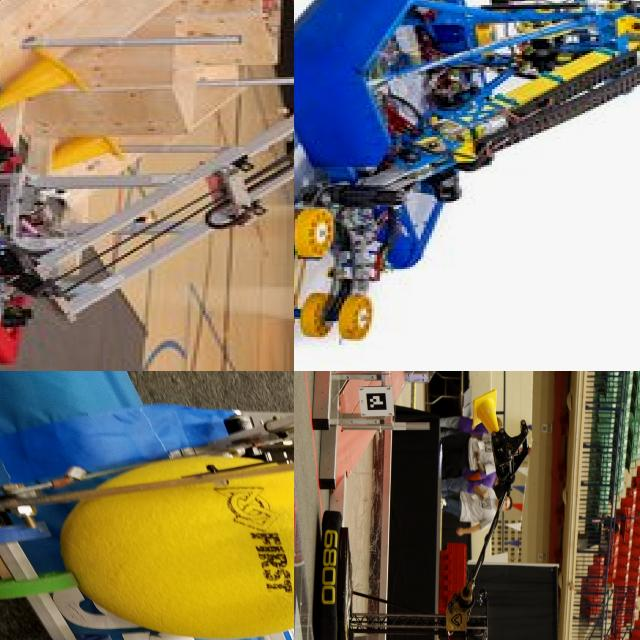FRC-Robots: (294, 0, 640, 356), (0, 0, 294, 371), (0, 382, 294, 640), (311, 371, 555, 640)
